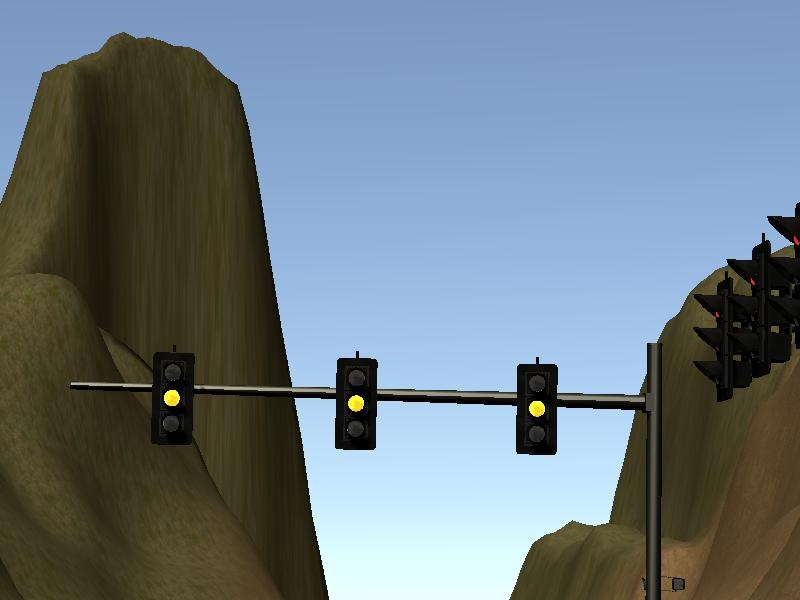yellow: (151, 352, 195, 445), (336, 358, 378, 450), (517, 365, 557, 455)
